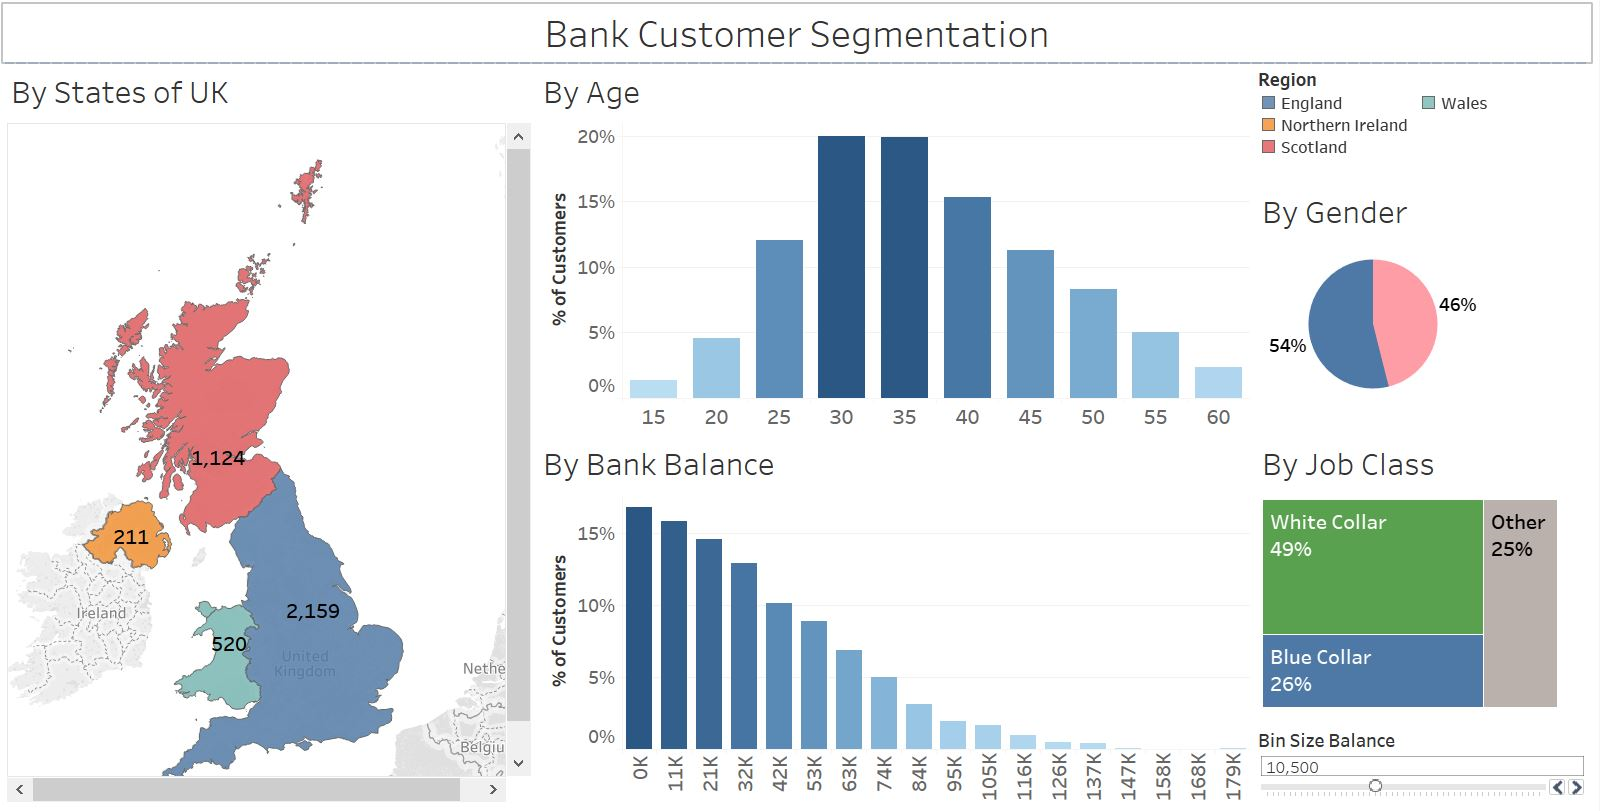

The dashboard page shown, as its layout file describes it:
{"tool":"tableau","page":{"name":"Bank Customer Segmentation","canvas":[1000,1000],"units":"permille","ordinal":0},"visuals":[{"type":"title","box":[5,9.8,990,70.9]},{"type":"worksheet","title":"Map","mark":"Multipolygon","box":[5,80.7,331.9,909.5]},{"type":"worksheet","title":"Age","mark":"Bar","rows":["Number of Records"],"cols":["Age (bin)"],"box":[336.9,80.7,448.1,454.8]},{"type":"legend","title":"Map","param":"[federated.1k6d9ce0ji9jzc1ejf8wb0ts6cpu].[none:Region:nk]","box":[784.9,80.7,210.1,146.7]},{"type":"worksheet","title":"Gender","mark":"Pie","box":[784.9,227.4,210.1,308.1]},{"type":"worksheet","title":"Balance","mark":"Bar","rows":["Number of Records"],"cols":["Balance (bin)"],"box":[336.9,535.5,448.1,454.8]},{"type":"worksheet","title":"Tree Map","mark":"Automatic","box":[784.9,535.5,210.1,353.3]},{"type":"parameter","param":"[Parameters].[Parameter 1]","box":[784.9,888.8,210.1,101.5]}]}

Visuals, with their boxes on the dashboard's canvas, which has no fixed pixel size, in thousandths of its width and height (x1, y1, x2, y2). These are canvas units, not pixel positions in the 1600x811 screenshot, which may show the page scaled, cropped or inside an application window:
title: 5:10:995:81
"Map" worksheet (Multipolygon marks): 5:81:337:990
"Age" worksheet (Bar marks): 337:81:785:536
"Map" legend: 785:81:995:227
"Gender" worksheet (Pie marks): 785:227:995:536
"Balance" worksheet (Bar marks): 337:536:785:990
"Tree Map" worksheet: 785:536:995:889
parameter: 785:889:995:990
